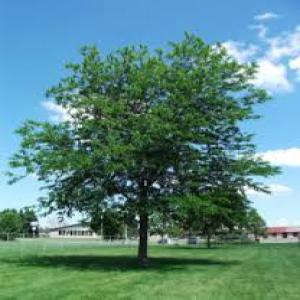Tree: (9, 25, 271, 264)
